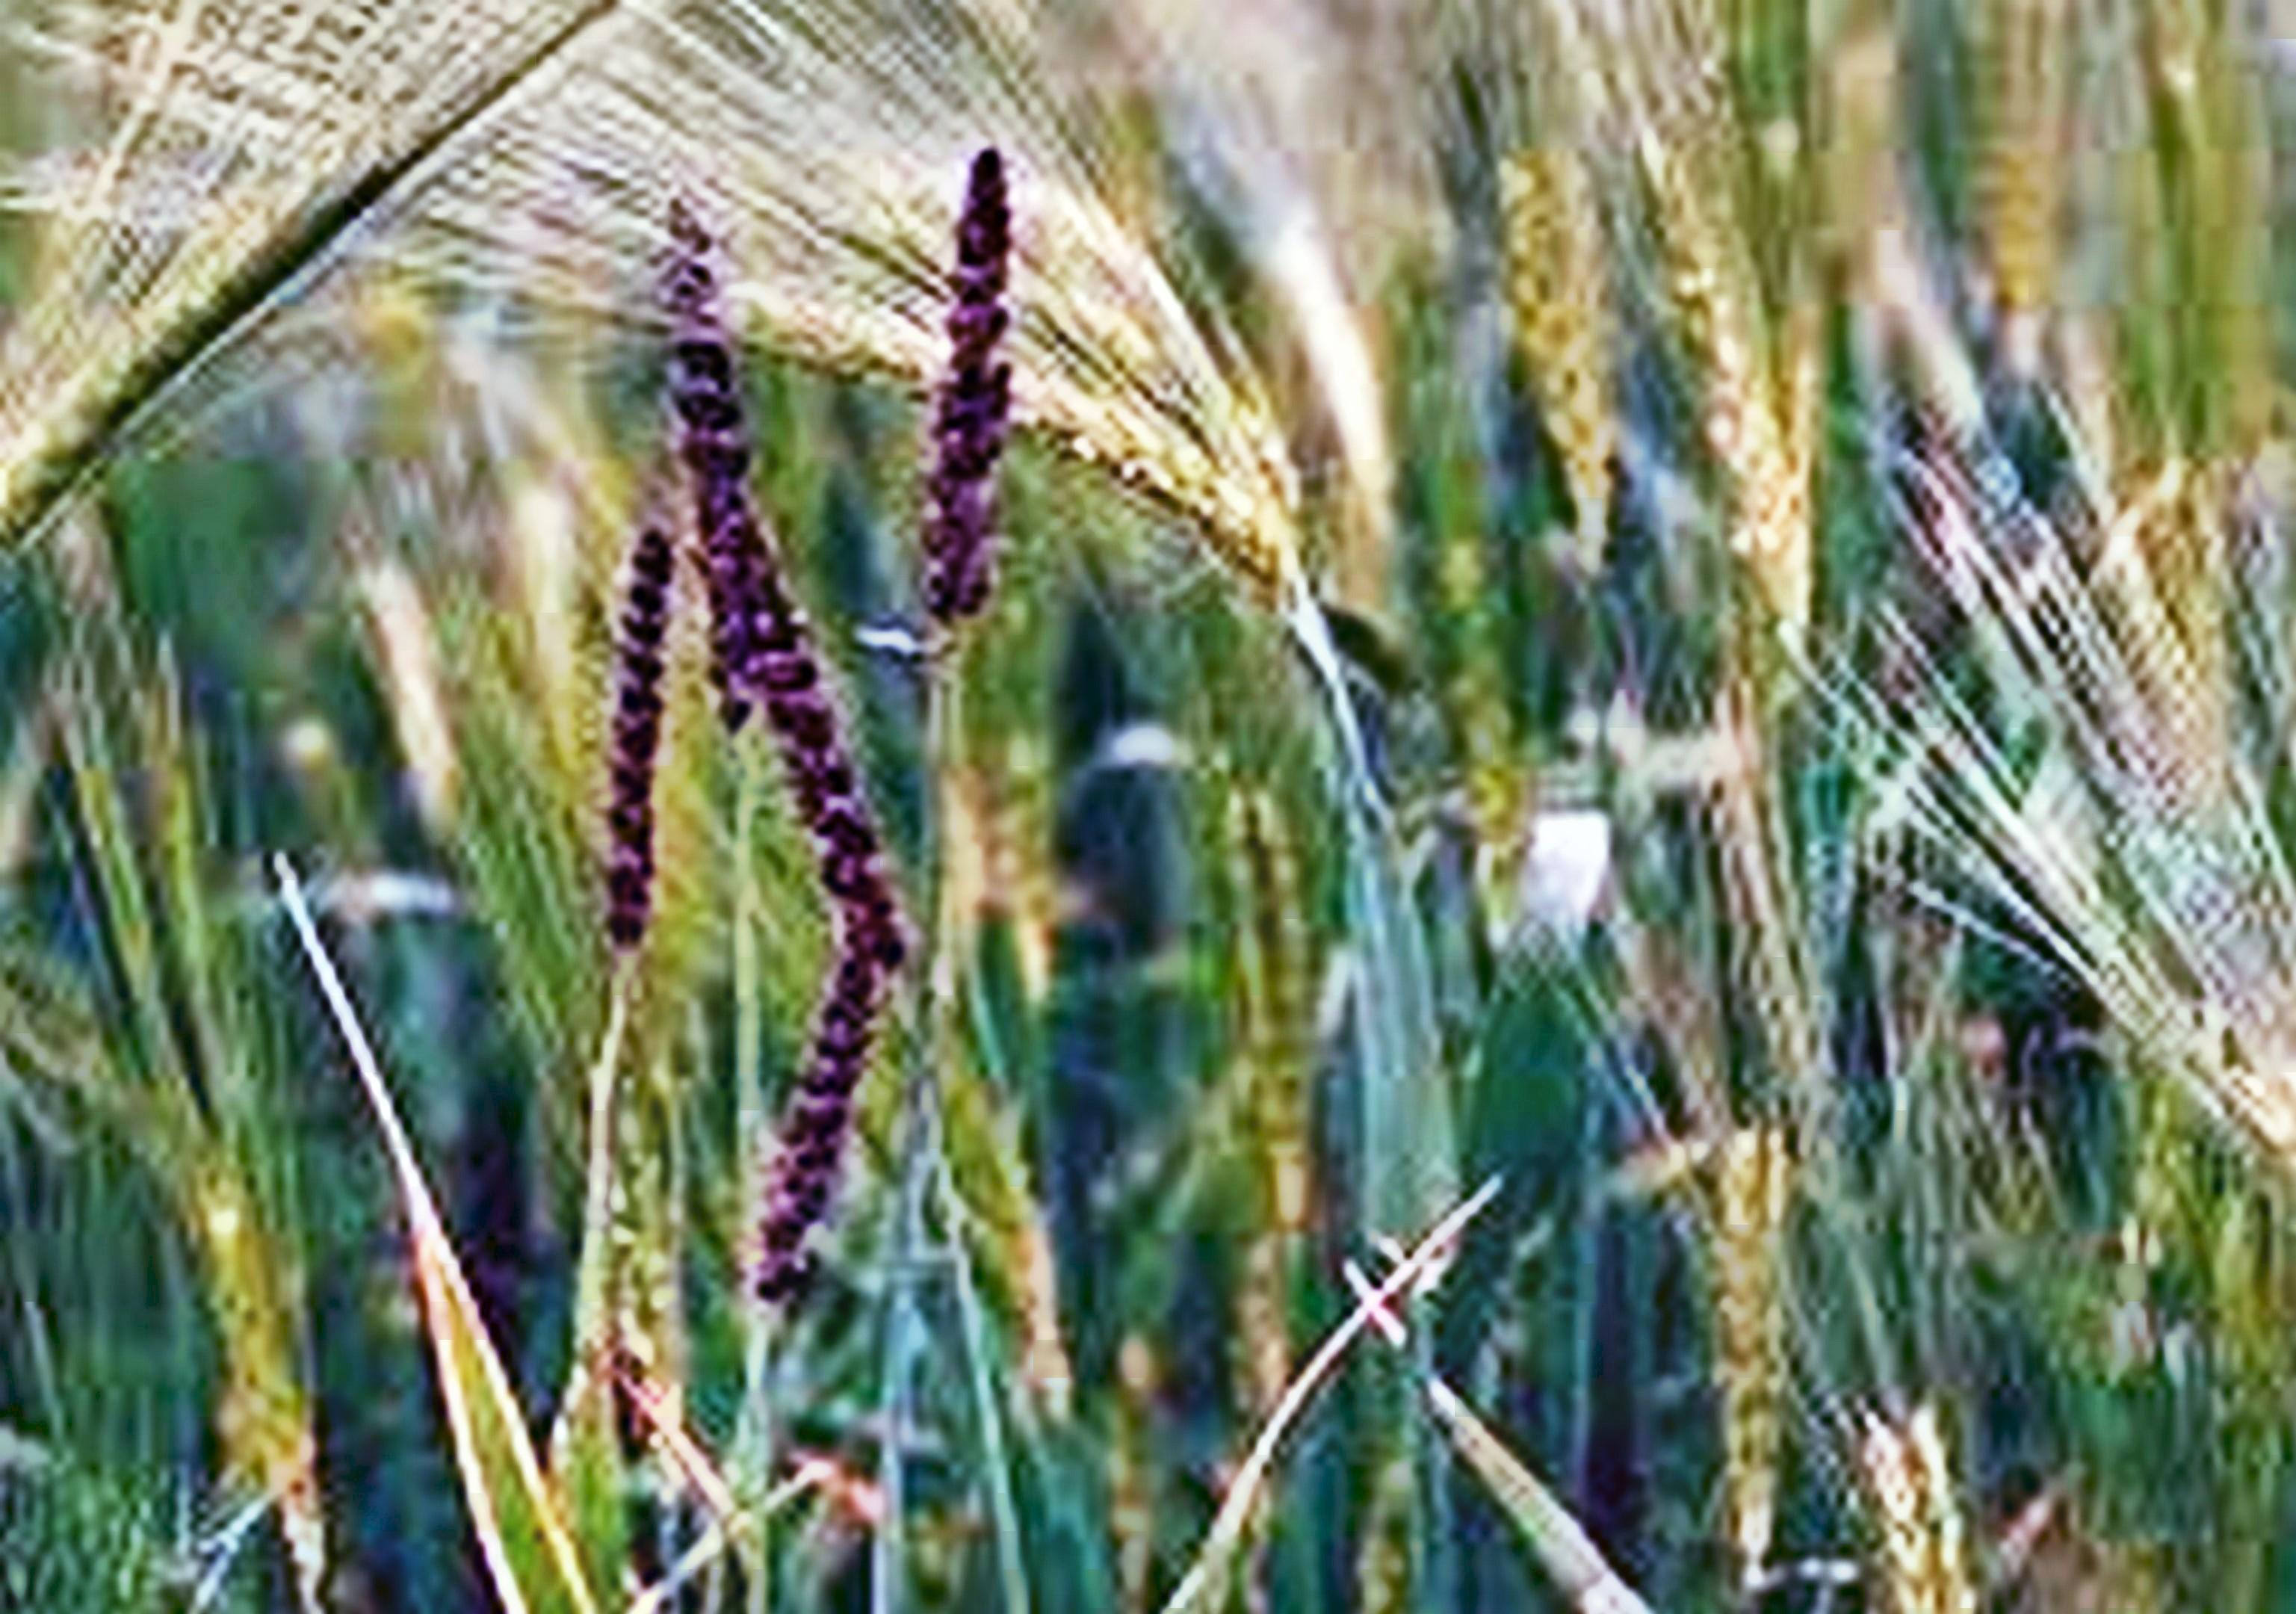Wheat Loose Smut: (571, 217, 927, 1301)
